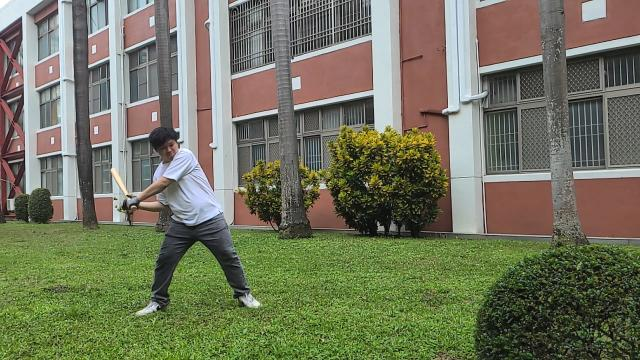baseball bat: (106, 164, 130, 196)
